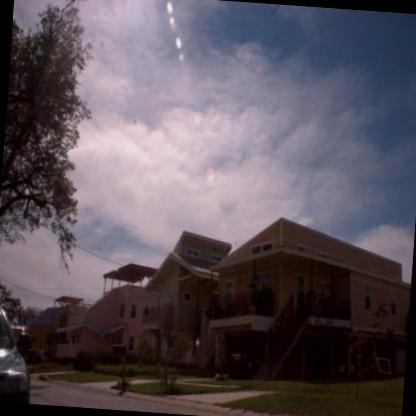car: (0, 307, 33, 404)
